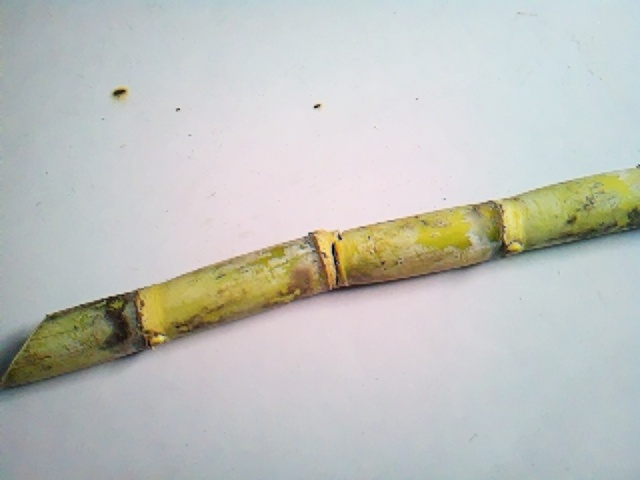Good Sugarcane: (2, 165, 640, 388)
Node: (114, 285, 172, 353), (298, 225, 352, 295), (477, 193, 527, 260)
